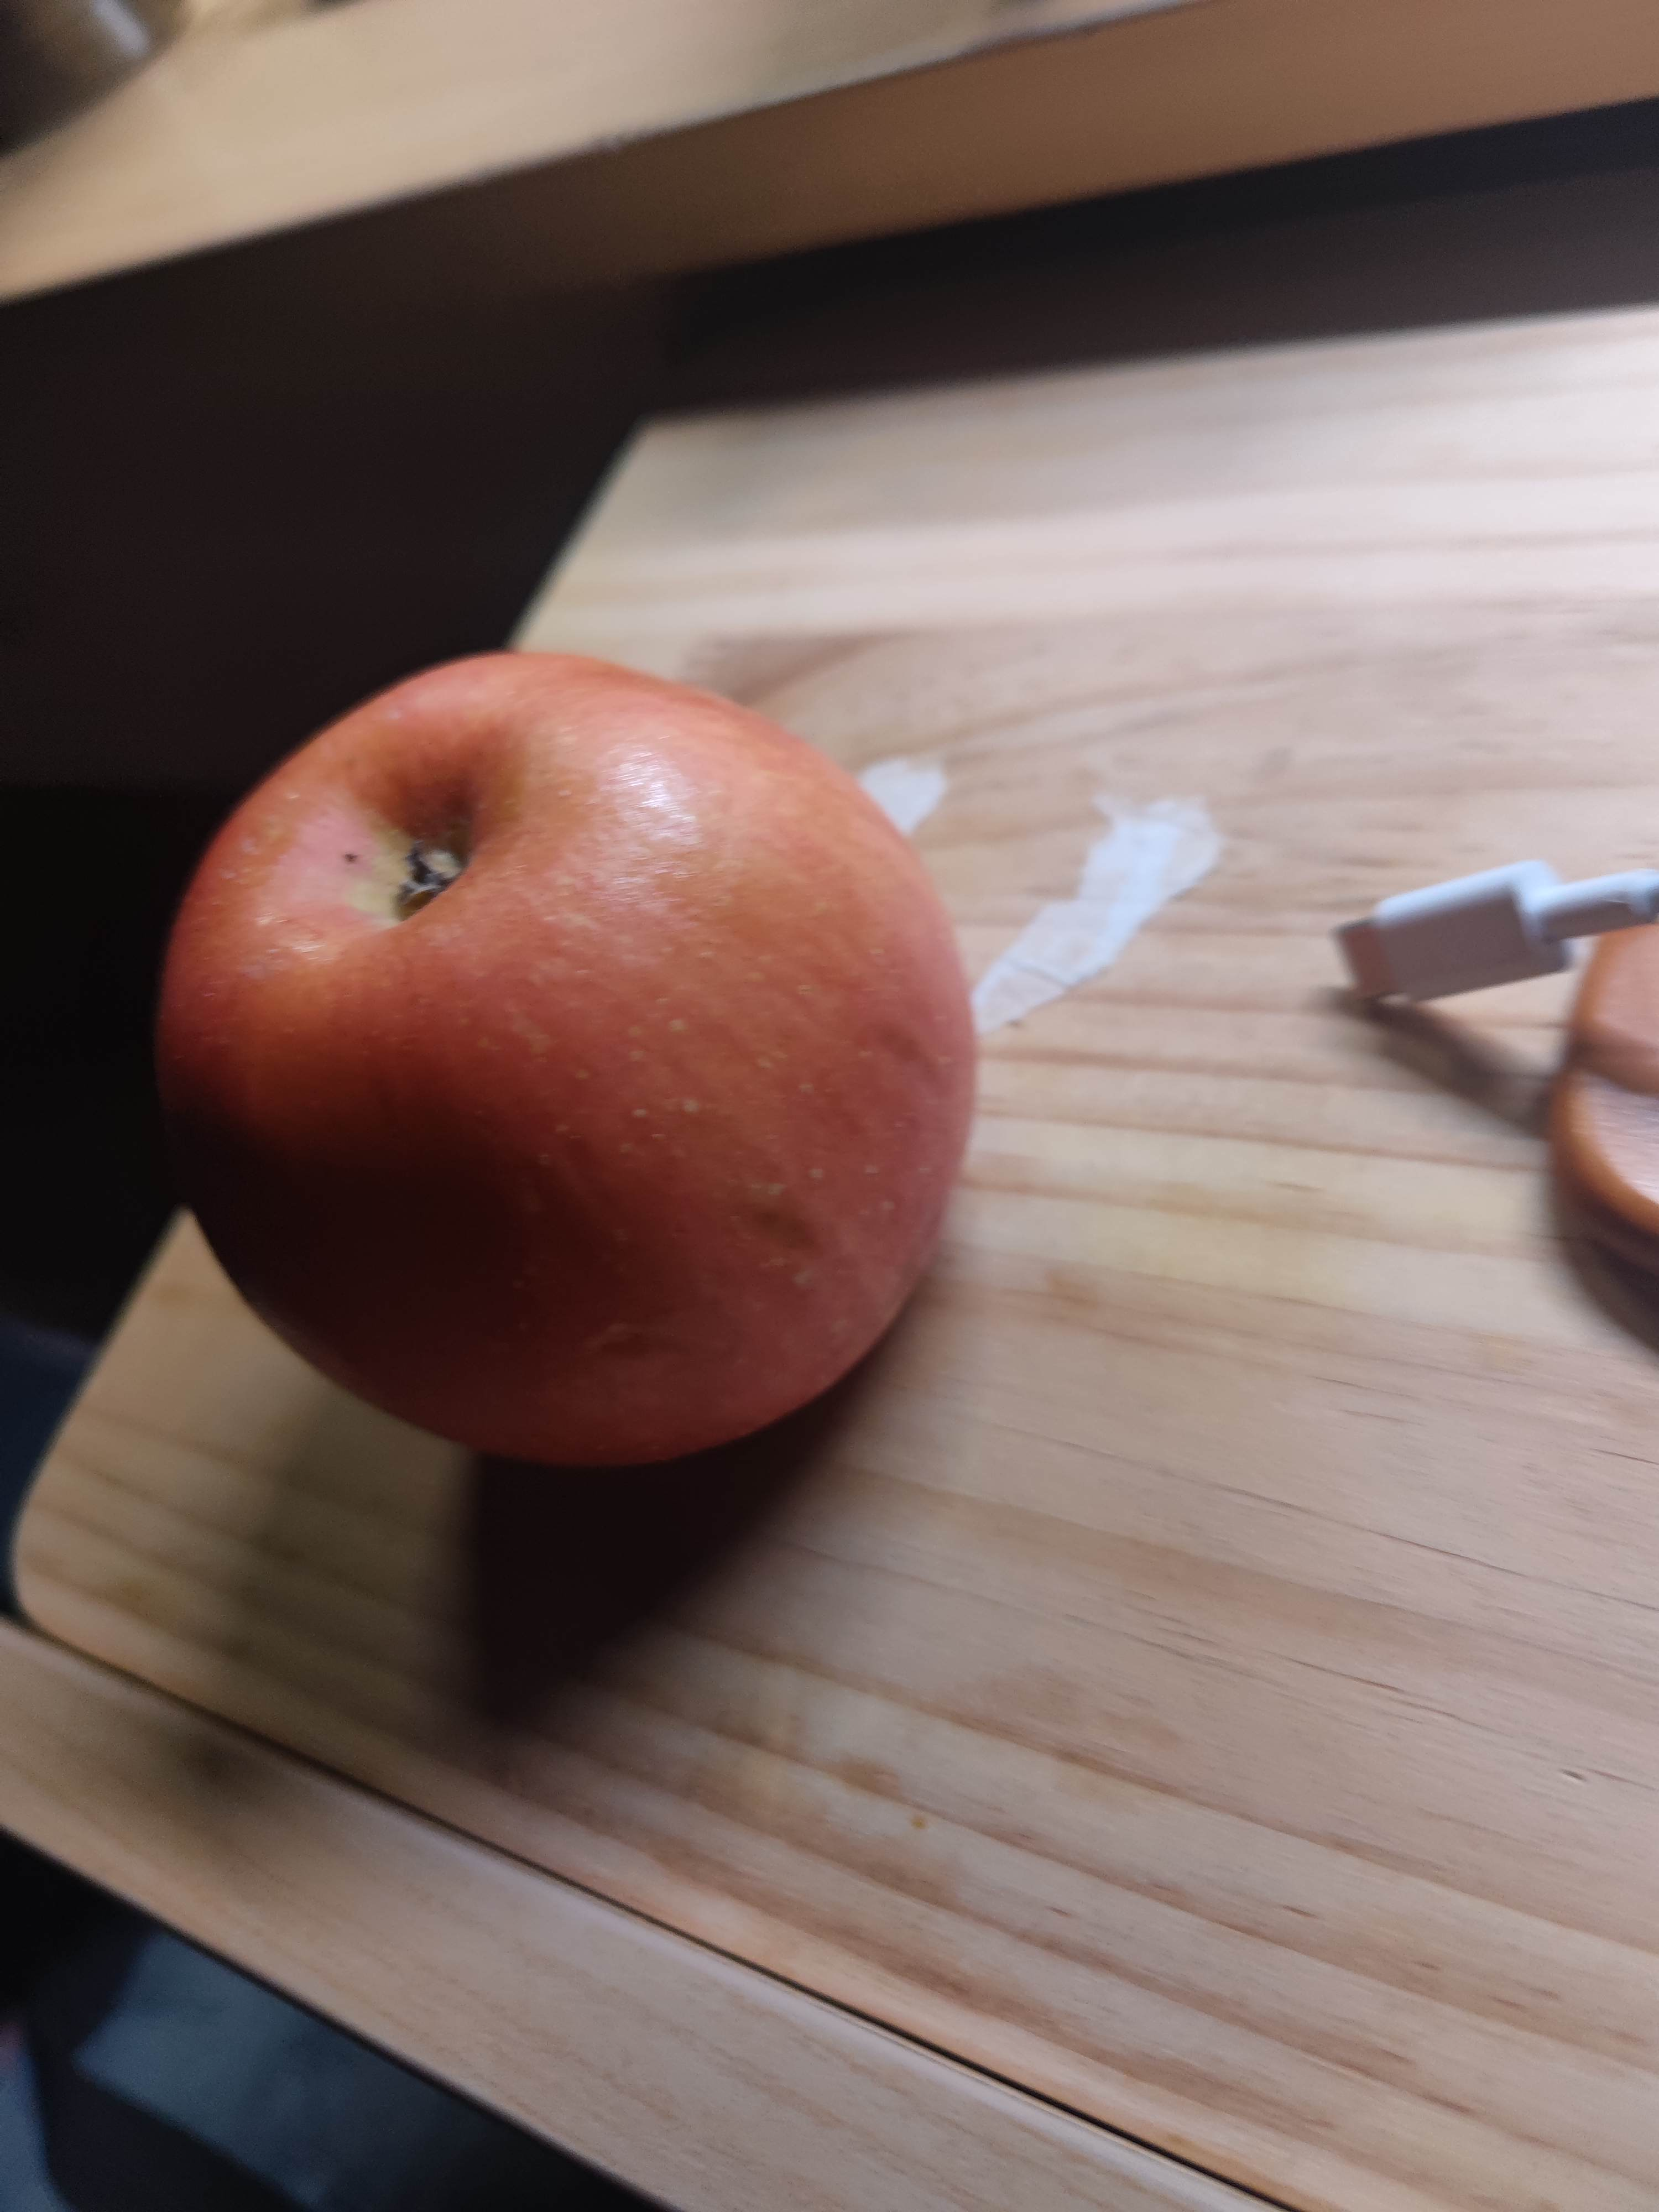apple: (143, 657, 979, 1479)
